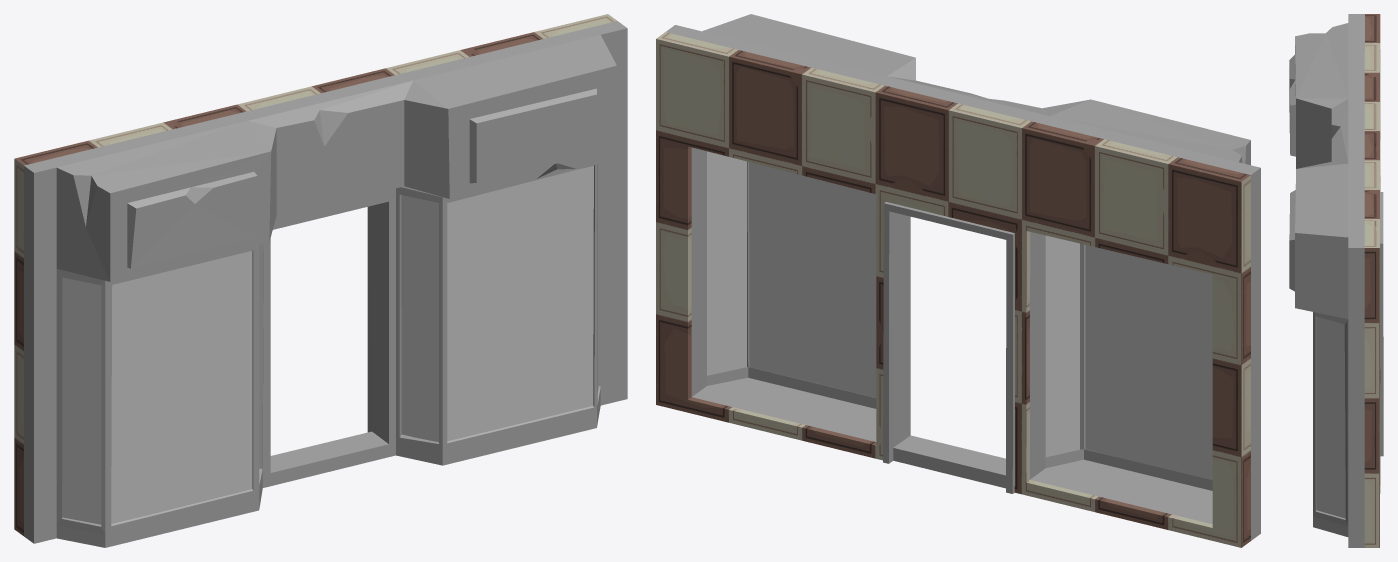
The model's file is SM_Bld_ShopFront_04.fbx.
3 renders of one model, left to right at view 1: azimuth 30°, elevation 25°; view 2: azimuth 150°, elevation 25°; view 3: azimuth 270°, elevation 25°, orthographic. The views are drawn at different scales.
Parts seen in each view (by area): view 1: SM_Bld_ShopFront_04, SM_Bld_ShopFront_04_Glass; view 2: SM_Bld_ShopFront_04, SM_Bld_ShopFront_04_Glass; view 3: SM_Bld_ShopFront_04, SM_Bld_ShopFront_04_Glass.
Boxes of the visible parts, x1,y1,x2,y2 form: SM_Bld_ShopFront_04: (14, 14, 627, 547); SM_Bld_ShopFront_04_Glass: (62, 163, 598, 524); SM_Bld_ShopFront_04: (656, 14, 1260, 547); SM_Bld_ShopFront_04_Glass: (707, 151, 1212, 479); SM_Bld_ShopFront_04: (1289, 14, 1383, 547); SM_Bld_ShopFront_04_Glass: (1316, 316, 1345, 518).
Bounding box in the file's own units: 502 × 300 × 85.46.
